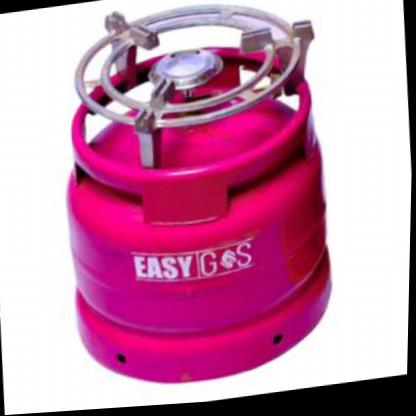gas-tank: (43, 31, 358, 412)
